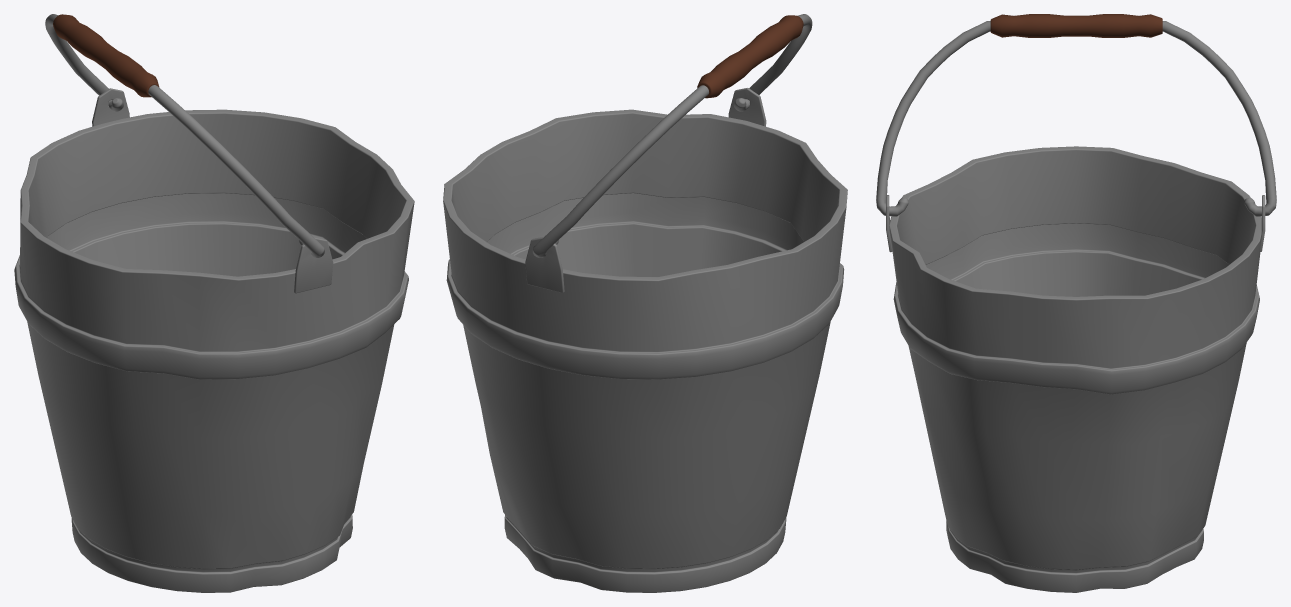
The model's file is toolsiron_bucket_001.fbx.
3 views of the same model, side by side, from view 1: azimuth 30°, elevation 25°; view 2: azimuth 150°, elevation 25°; view 3: azimuth 270°, elevation 25° (orthographic). The views are drawn at different scales.
Visible parts, largest first — view 1: iron bucket.001; view 2: iron bucket.001; view 3: iron bucket.001.
Part boxes in pixels (box(x1,y1,x2,y2)): iron bucket.001: box(14, 14, 414, 592); iron bucket.001: box(443, 14, 847, 592); iron bucket.001: box(876, 14, 1276, 592).
Size of the model in its own units: 113 by 161 by 123.
